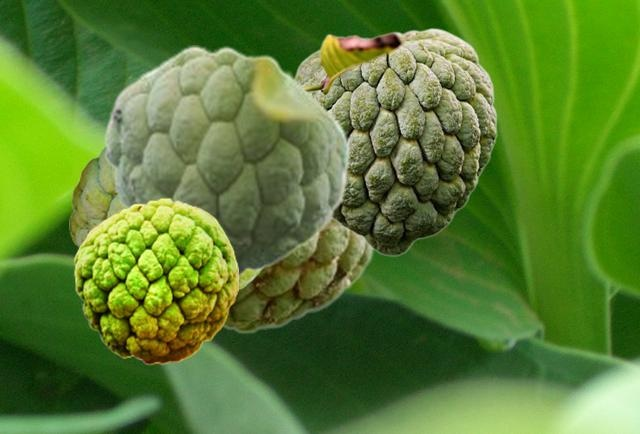atis: (103, 45, 351, 277), (296, 27, 496, 255), (69, 145, 265, 292), (73, 197, 237, 364), (220, 221, 375, 333)
